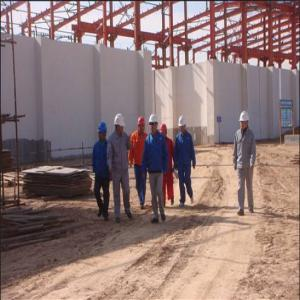blue: (98, 122, 110, 143)
red: (137, 118, 146, 134), (161, 123, 168, 138)
white: (113, 113, 126, 135), (148, 114, 159, 135), (240, 111, 251, 132), (179, 116, 188, 135)
